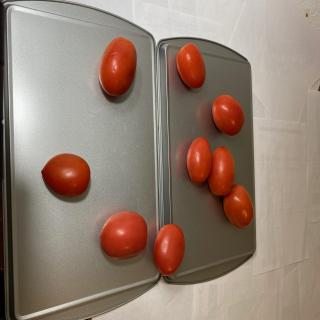Tomato: (100, 210, 148, 260), (98, 36, 137, 96), (41, 153, 91, 197), (153, 223, 185, 276), (212, 94, 245, 136), (176, 42, 206, 88), (223, 184, 254, 228), (208, 146, 235, 196), (186, 136, 212, 183)
